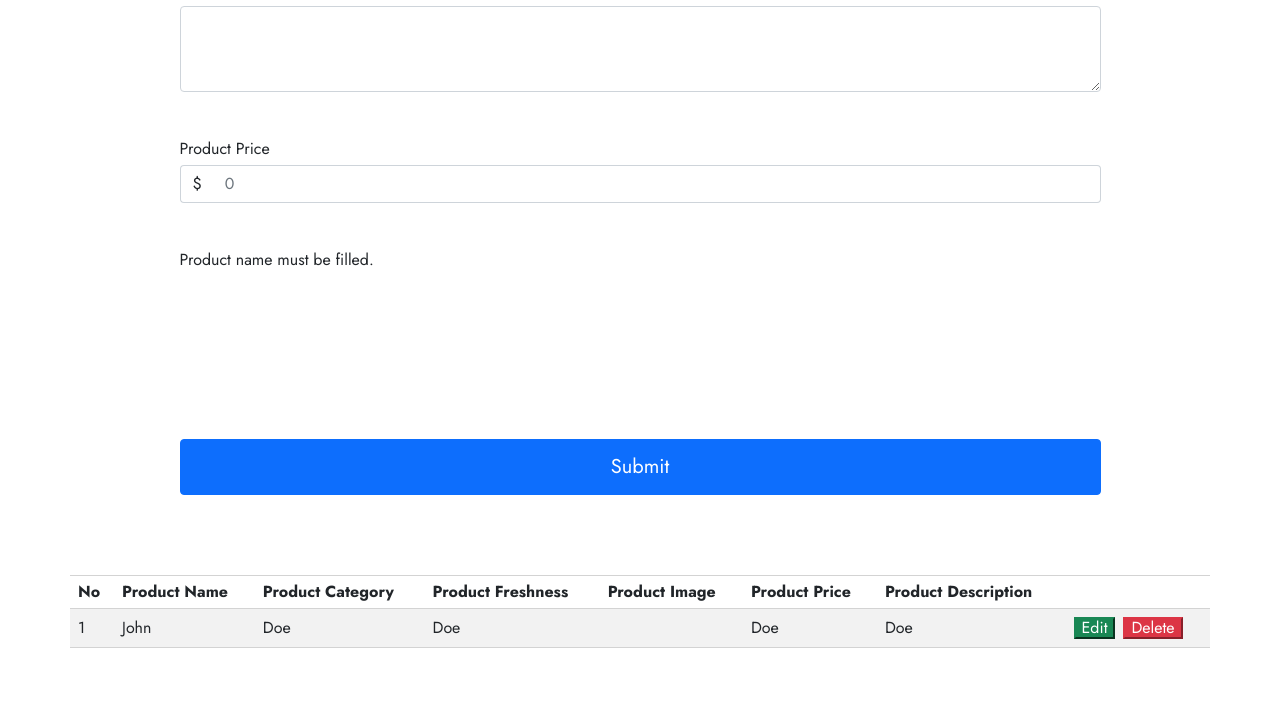
Test case: CreateProduct component › Validasi semua form field tersebut tidak boleh kosong.
The width and height of the screenshot is (1280, 706).
(page scrolled)
Click the button "Submit". click: (640, 466)
box: [180, 438, 1100, 494]
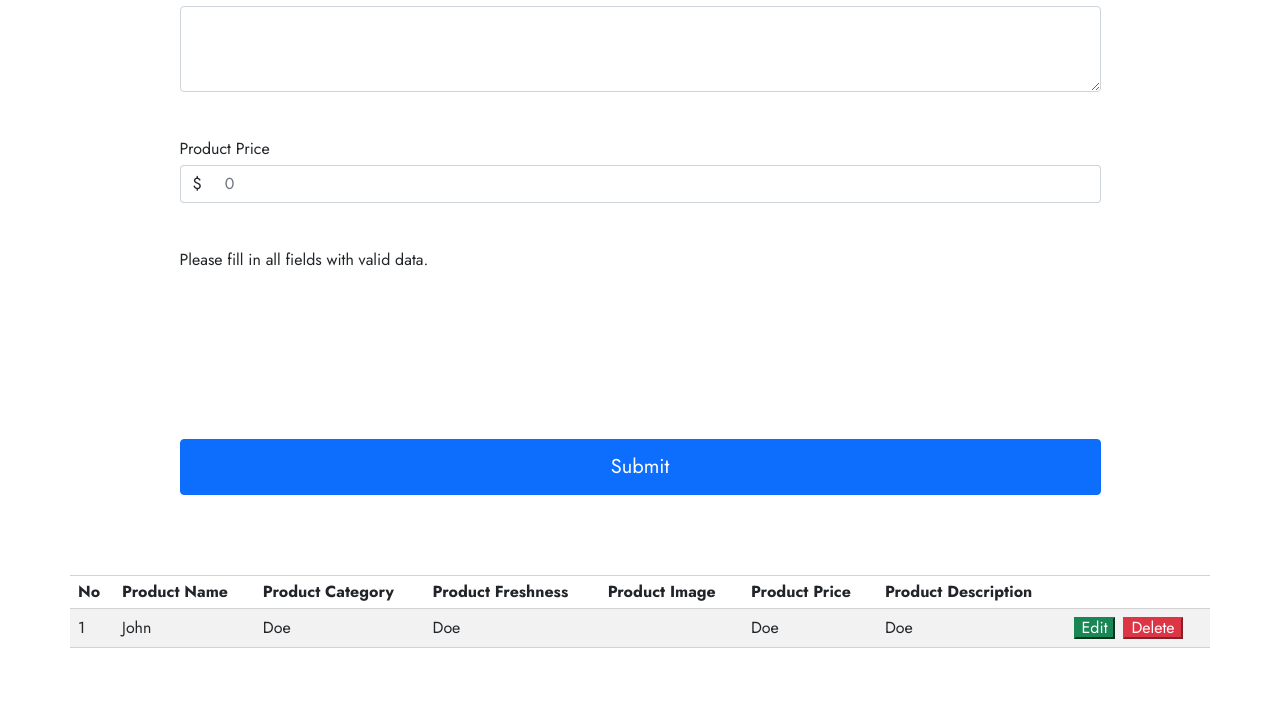
Now the text "Please fill in all fields with valid data." is shown, box [180, 248, 428, 270]
